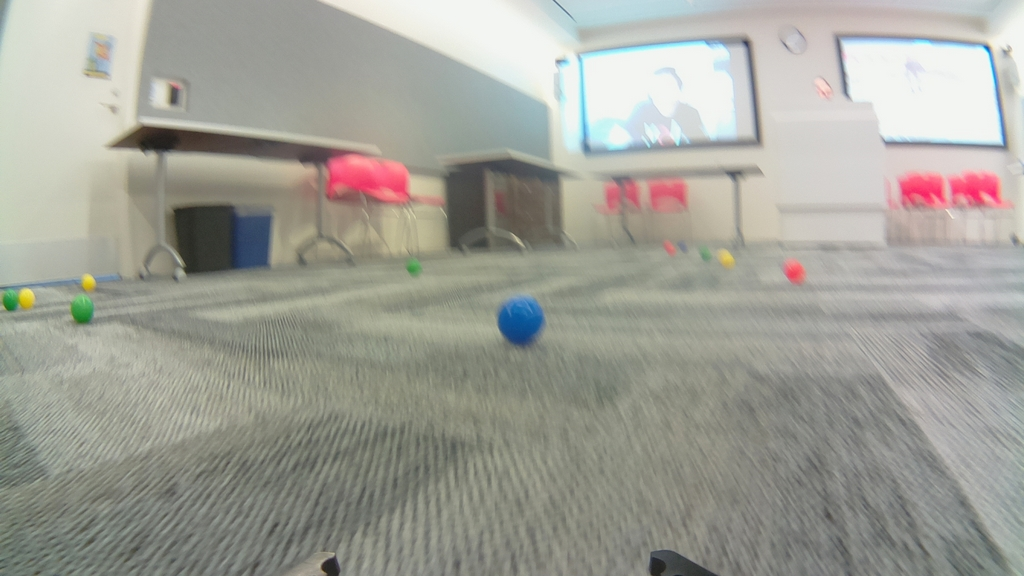ball: (785, 260, 805, 283)
